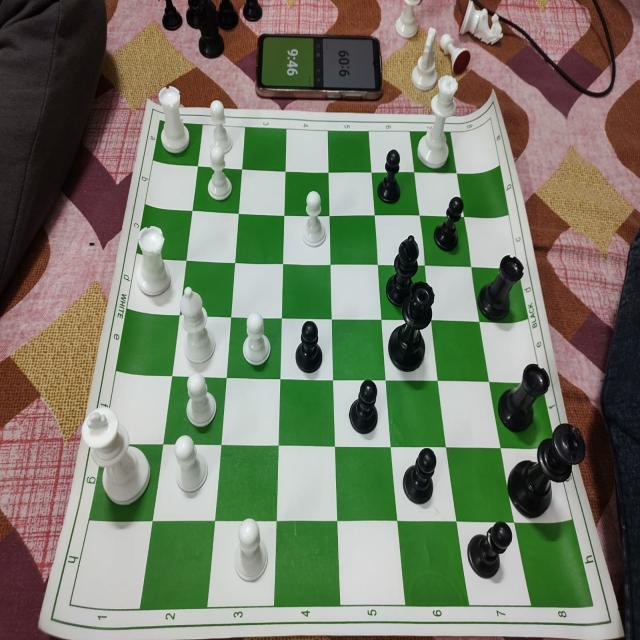board: (40, 99, 615, 628)
square: (70, 521, 153, 609), (515, 520, 593, 607), (140, 521, 215, 609), (457, 522, 532, 606), (207, 521, 277, 609), (397, 521, 469, 606), (338, 521, 406, 606), (89, 444, 163, 521), (274, 521, 340, 606), (501, 449, 573, 523), (153, 444, 222, 521), (446, 447, 514, 523), (103, 371, 172, 444), (391, 447, 457, 522), (215, 445, 279, 521), (277, 446, 338, 522), (335, 447, 397, 521), (489, 382, 556, 449), (163, 376, 227, 445), (116, 308, 180, 376), (438, 381, 501, 448), (221, 378, 281, 445), (386, 381, 446, 448), (480, 319, 541, 383), (333, 380, 391, 447), (279, 379, 335, 447), (127, 253, 186, 315), (431, 321, 489, 382), (381, 320, 438, 381), (227, 317, 282, 379), (332, 319, 386, 381), (281, 318, 333, 380), (137, 204, 193, 261), (472, 267, 529, 322), (180, 261, 235, 317), (425, 266, 479, 322), (378, 265, 431, 321), (464, 217, 519, 269), (330, 265, 382, 320), (231, 263, 283, 318), (186, 211, 239, 263), (282, 264, 332, 319), (145, 160, 198, 211), (451, 118, 500, 173), (457, 166, 509, 217), (420, 216, 471, 267), (375, 216, 425, 266), (236, 214, 285, 264), (330, 215, 378, 265), (283, 216, 331, 265), (192, 167, 242, 214), (153, 121, 203, 166), (198, 124, 245, 170), (239, 170, 286, 216), (415, 173, 464, 217), (372, 172, 420, 216), (242, 127, 287, 172), (329, 172, 375, 216), (285, 172, 330, 216), (410, 131, 457, 173), (369, 131, 414, 173), (286, 129, 329, 172), (328, 131, 371, 172)
